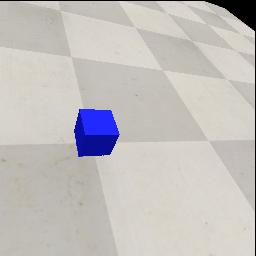box: (74, 109, 120, 157)
